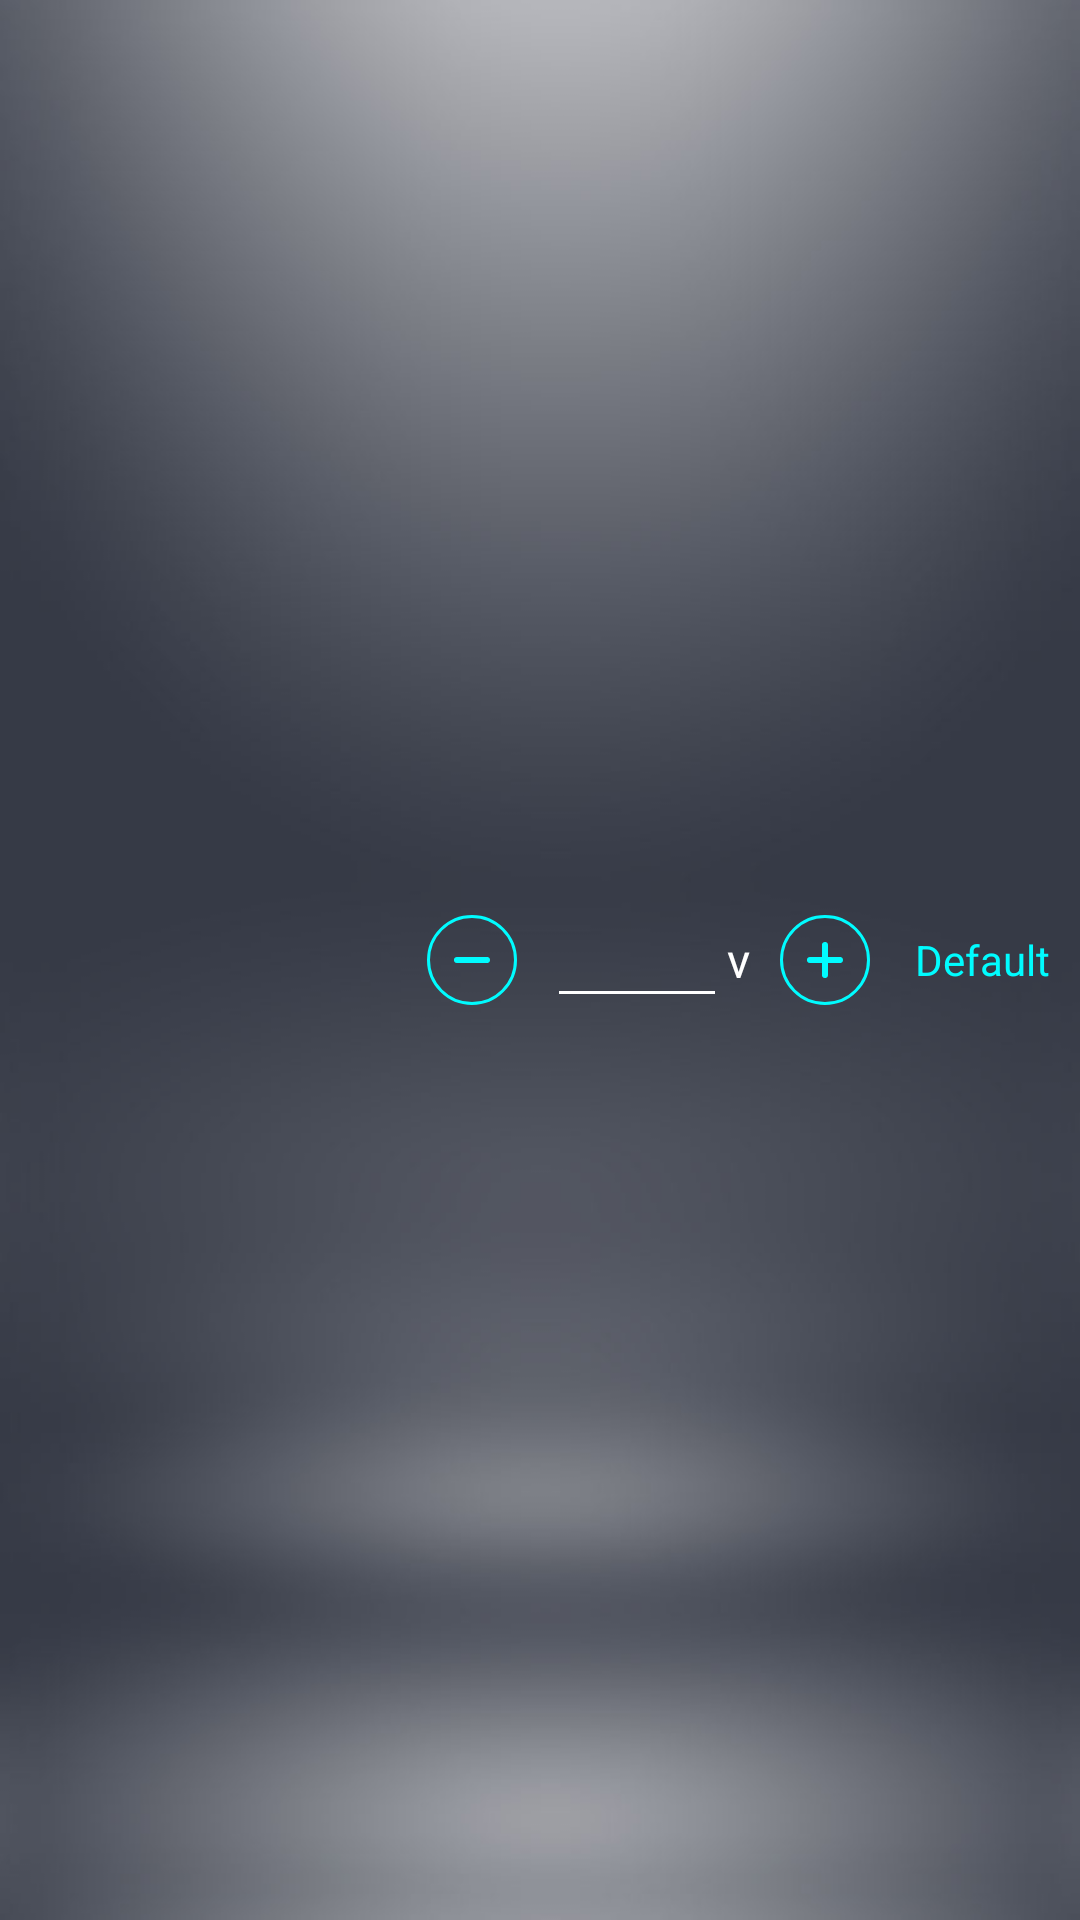

Locate icon controls on the screen. Image size 1080w x 1920h, boxes as bbox(x1, y1, x2, y2).
add: bbox(780, 915, 870, 1005)
sub: bbox(427, 915, 517, 1005)
